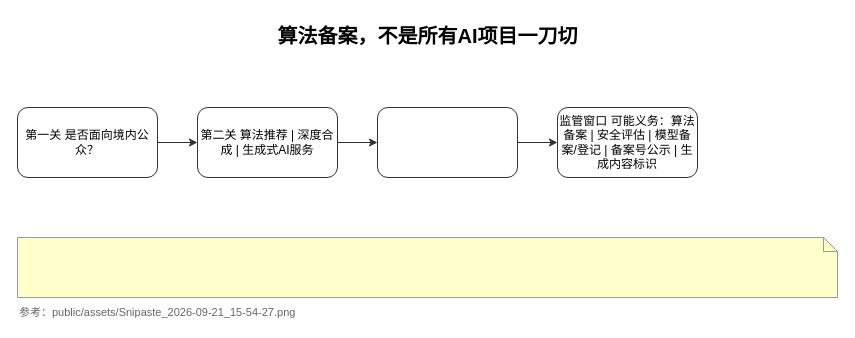
The diagram is 855 pixels wide and 338 high, and some of its shapes have lost their labels. Here are the shapes that lost their labels. From the top down, the centre of each, then its label:
point 447,142: 第三关 是否具有舆论属性或社会动员能力？
point 427,267: 纯内部工具通常不直接等同公众服务；逐关判断，而非一刀切
